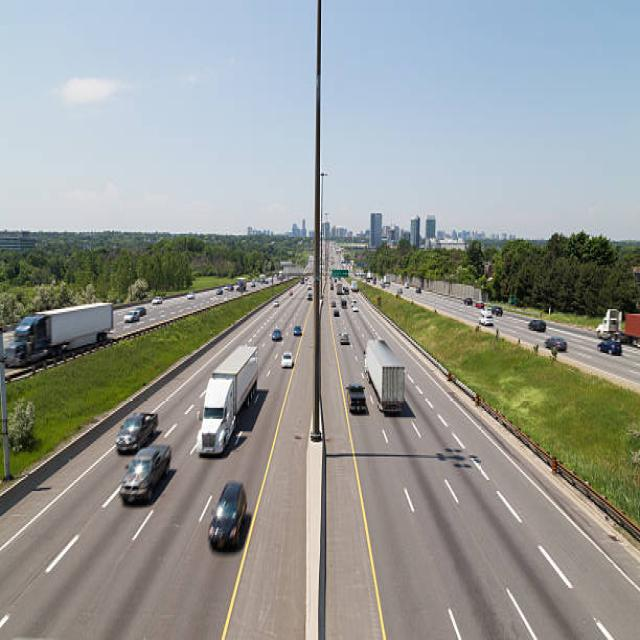16-Wheelers: (1, 301, 113, 367), (198, 343, 258, 455), (364, 337, 405, 413)
Car: (119, 444, 172, 503), (207, 480, 246, 551), (115, 411, 158, 453), (346, 382, 366, 412), (597, 337, 621, 355), (544, 336, 567, 351), (280, 350, 293, 367), (528, 318, 545, 331), (339, 331, 349, 344), (271, 328, 281, 340), (293, 325, 301, 334), (186, 292, 195, 300)
